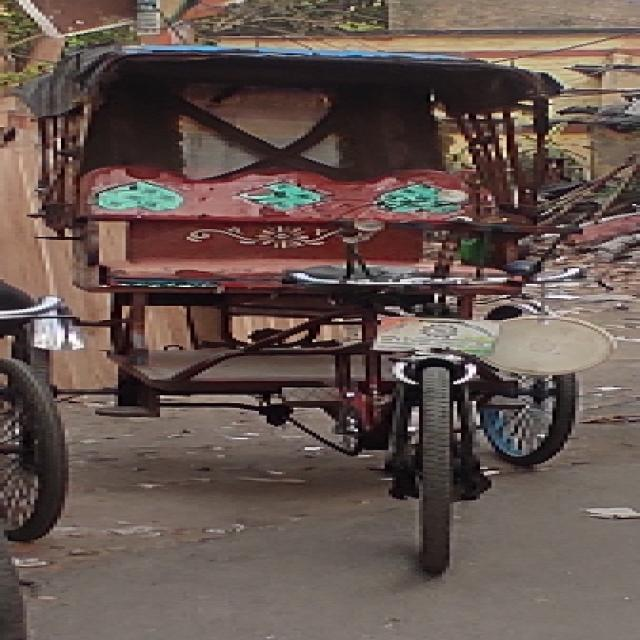rickshaw: (80, 33, 613, 582)
